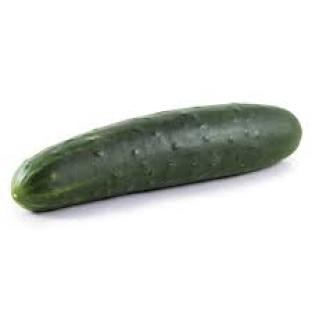Cucumber: (13, 104, 300, 212)
